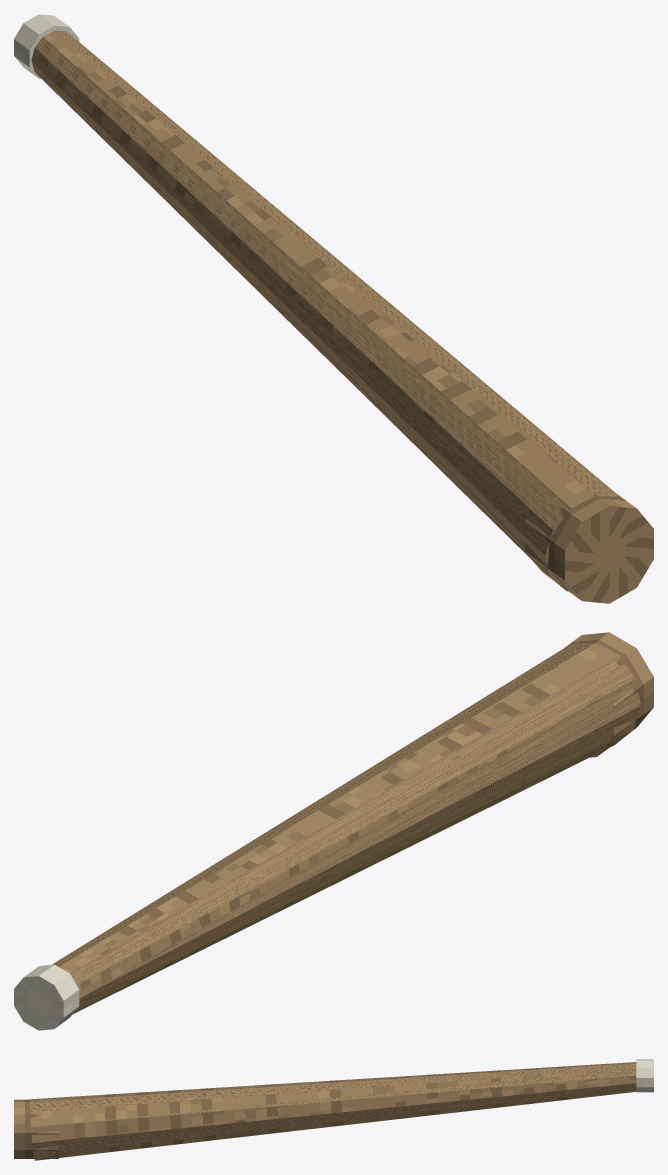
Rendered from pool_cue.glb.
The picture shows the model from 3 angles, top to bottom: view 1: azimuth 30°, elevation 25°; view 2: azimuth 150°, elevation 25°; view 3: azimuth 270°, elevation 25°; orthographic projection. The views are drawn at different scales.
Parts seen in each view (by area): view 1: block_tapered handle, block_grip butt, block_cue tip; view 2: block_tapered handle, block_cue tip, block_grip butt; view 3: block_tapered handle, block_grip butt, block_cue tip.
Boxes of the visible parts, bbox=[...] form: block_tapered handle: bbox=[31, 30, 620, 591]; block_grip butt: bbox=[524, 491, 653, 603]; block_cue tip: bbox=[14, 14, 79, 78]; block_tapered handle: bbox=[52, 642, 640, 1013]; block_cue tip: bbox=[14, 964, 79, 1030]; block_grip butt: bbox=[565, 632, 653, 757]; block_tapered handle: bbox=[29, 1062, 636, 1160]; block_grip butt: bbox=[14, 1099, 58, 1158]; block_cue tip: bbox=[636, 1059, 653, 1092].
Size of the model in its own units: 0.1434 by 0.2489 by 1.48.
Materials: 1 (1 with a texture image).
